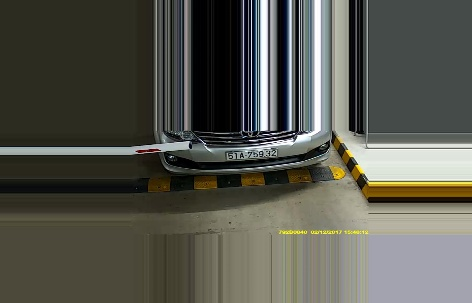plate: (221, 148, 278, 160)
